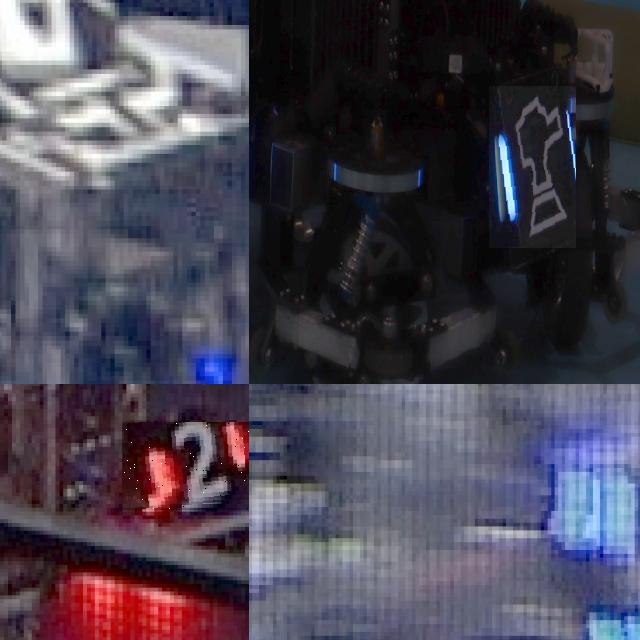Bs: (489, 86, 576, 248)
R2: (122, 422, 249, 509)
